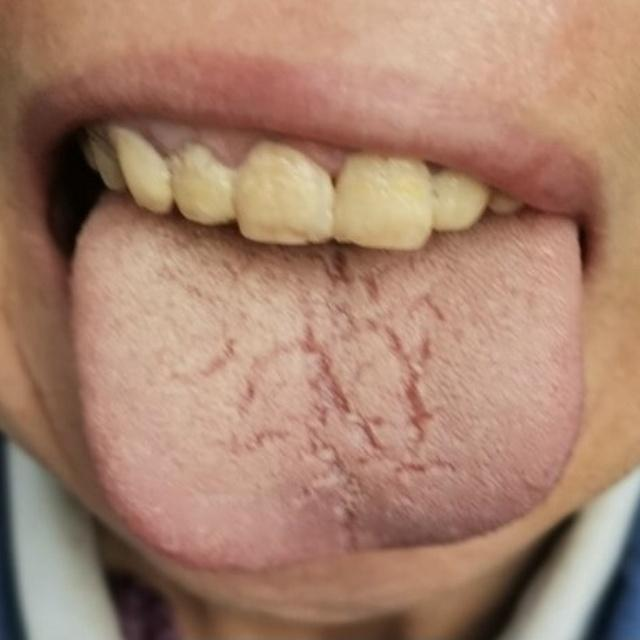baitaishe: (67, 213, 586, 573)
liewenshe: (289, 308, 445, 485)
